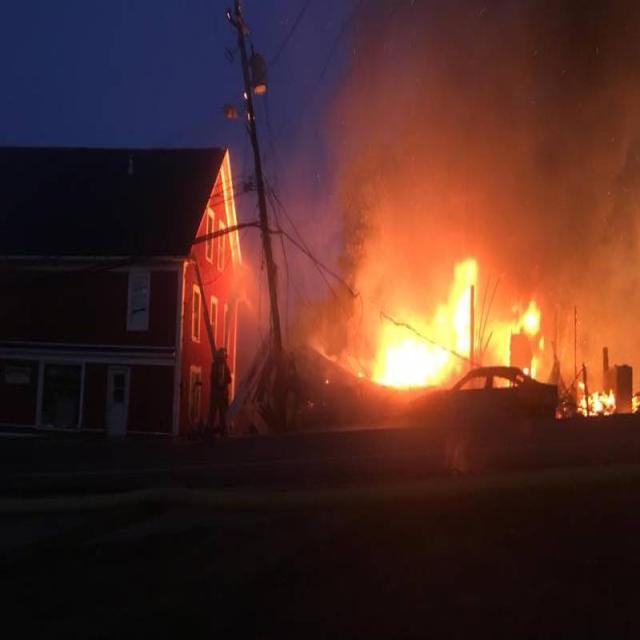Fire: (372, 257, 478, 386), (486, 304, 544, 374), (580, 389, 616, 414)
Smoke: (347, 8, 640, 246), (550, 257, 640, 380)
